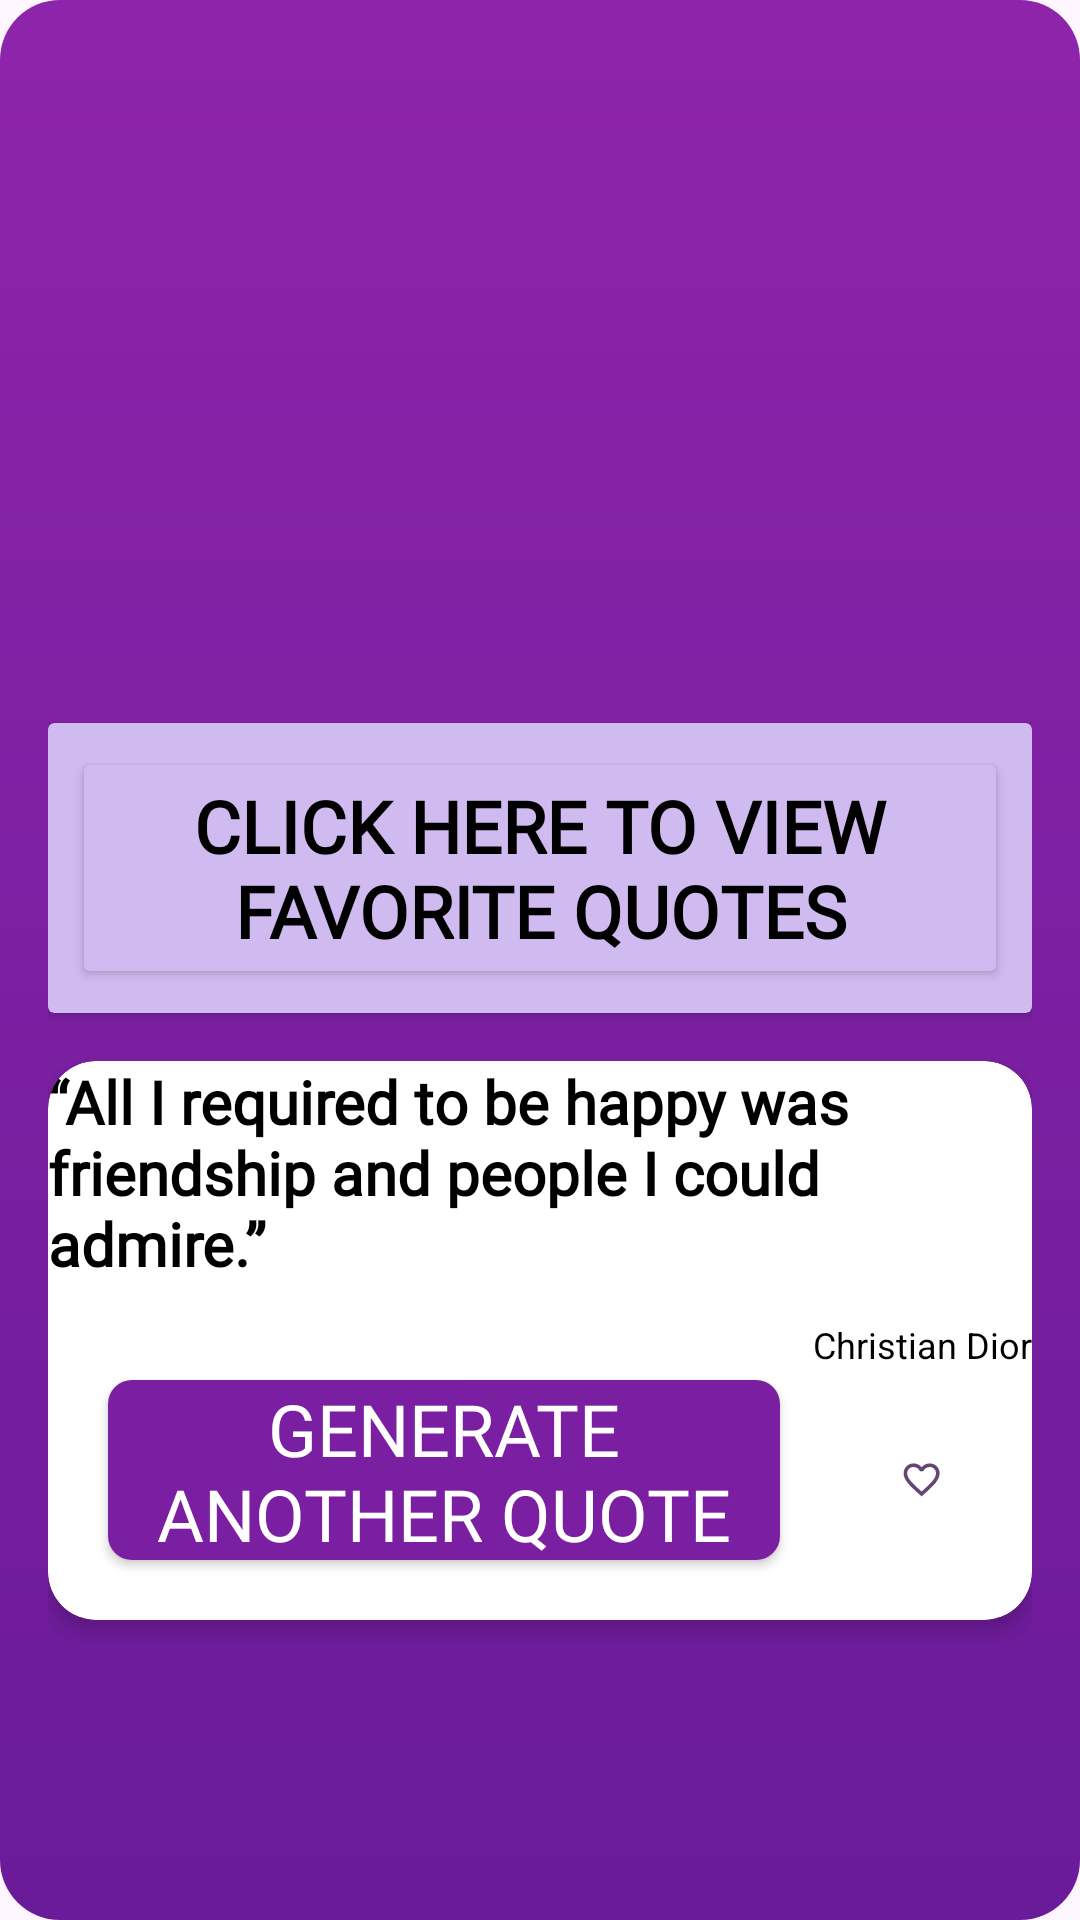

Screen size 1080px×1920px. Icon name, then its center in pixels as [x,y]:
favorite border: [921,1480]
